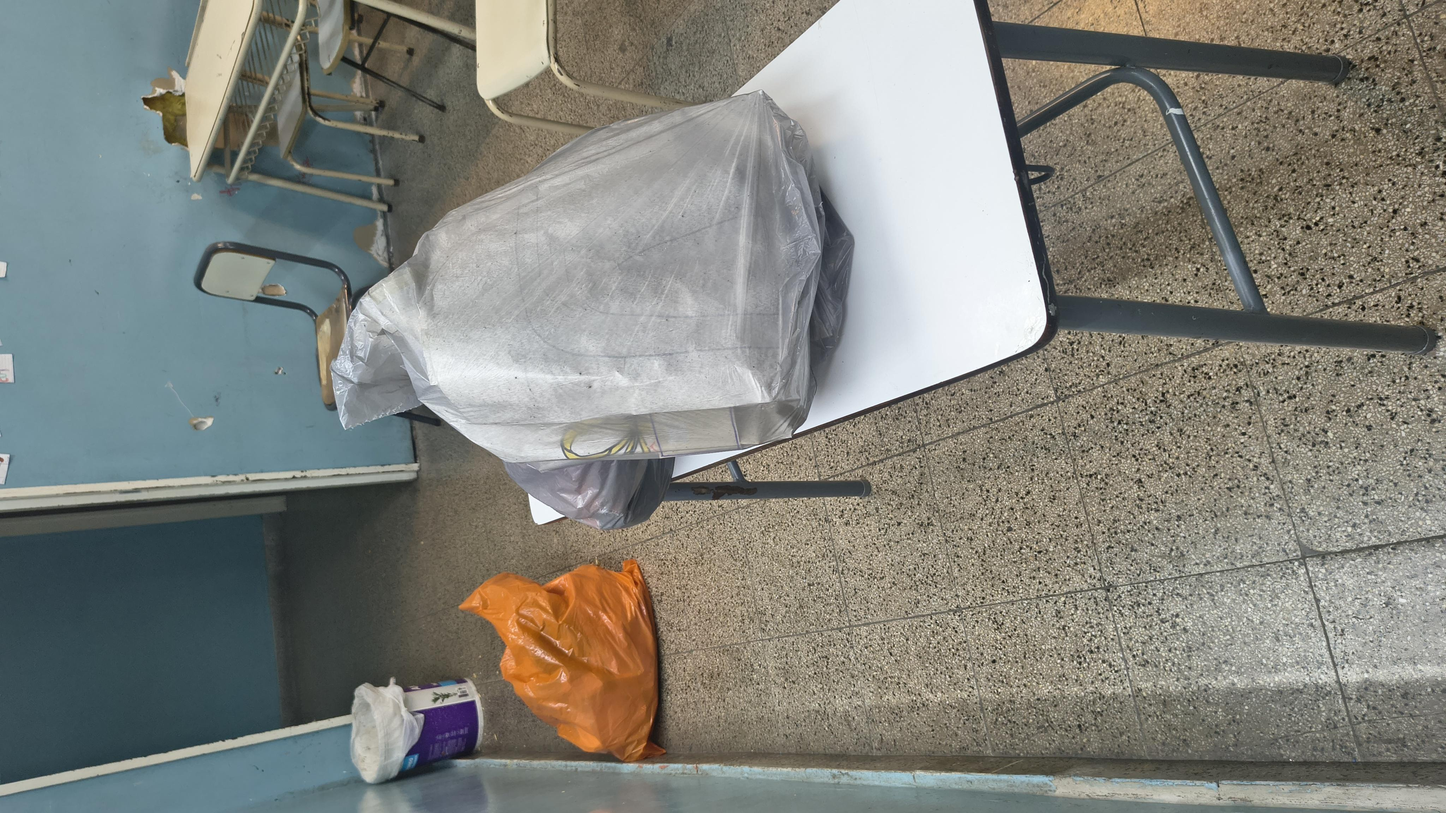Garbage: (477, 177, 1349, 490), (31, 248, 559, 397)
